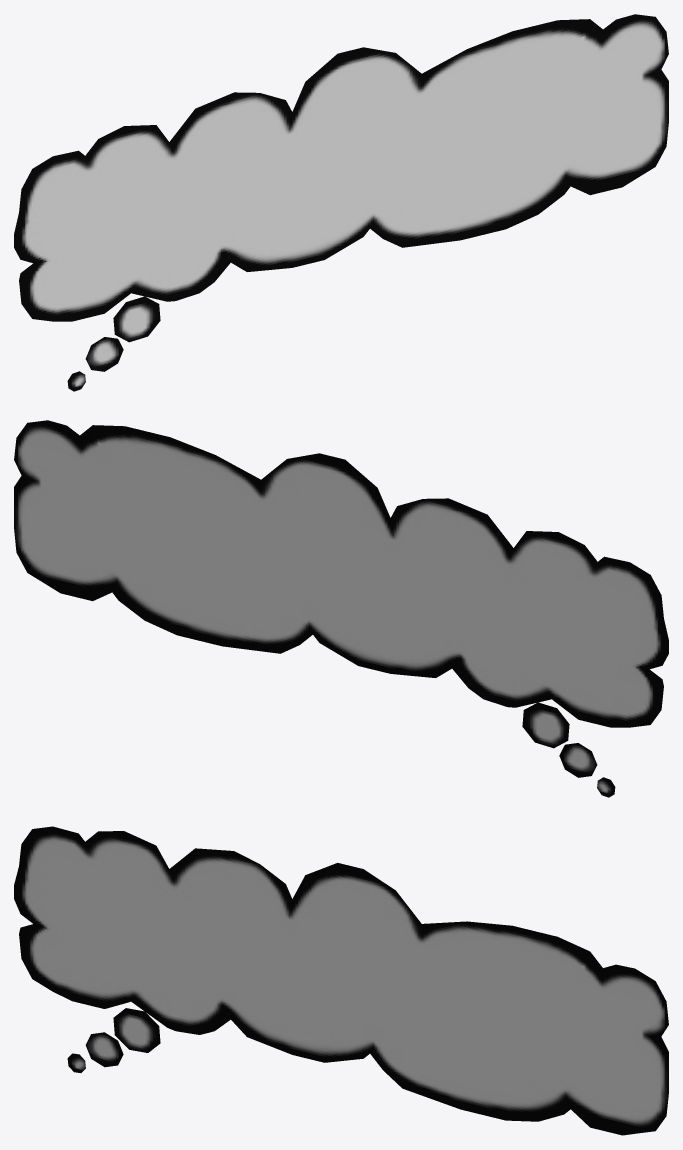
Rendered from chatbox_thought_cutout.fbx.
3 renders of one model, top to bottom at view 1: azimuth 30°, elevation 25°; view 2: azimuth 150°, elevation 25°; view 3: azimuth 330°, elevation 25°, orthographic.
Parts seen in each view (by area): view 1: middle, bottom, top; view 2: middle, bottom, top; view 3: middle, bottom, top.
Boxes of the visible parts, x1,y1,x2,y2 form: middle: (14, 54, 668, 280); bottom: (19, 122, 668, 391); top: (19, 14, 668, 212); middle: (14, 460, 668, 686); bottom: (14, 528, 663, 797); top: (14, 420, 663, 618); middle: (14, 866, 668, 1092); bottom: (19, 934, 668, 1135); top: (19, 826, 668, 1024).
Bounding box in the file's own units: 1012 × 404 × 6.58e-05.
Materials: 1 (1 with a texture image).
